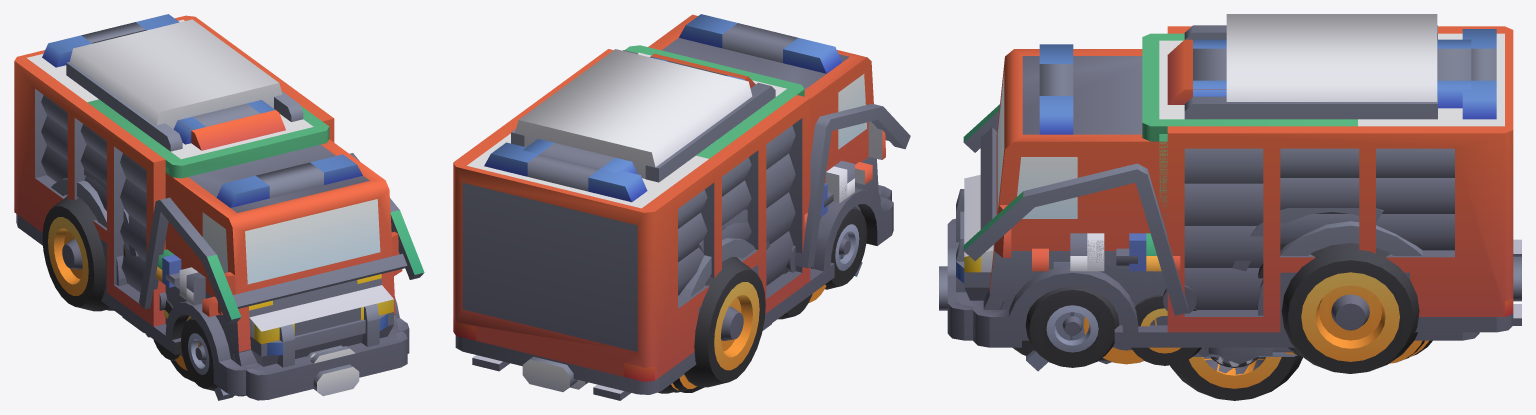
Rendered from cars.glb.
3 renders of one model, left to right at view 1: azimuth 30°, elevation 25°; view 2: azimuth 150°, elevation 25°; view 3: azimuth 270°, elevation 25°, orthographic. The views are drawn at different scales.
Parts seen in each view (by area): view 1: body (×5), arm, wheel-back-right, grill, wheel-front-right; view 2: body (×4), wheel-back-right, arm, wheel-front-right; view 3: body (×10), wheel-back-left, arm, wheel-front-left (×3), wheel-tractor-back, grill, debris-bumper, wheel-tractor-dark-back, shovel.
Part boxes in pixels (x1,y1,x2,y2): body (×5): (14,14,409,400); arm: (139,153,424,324); wheel-back-right: (42,196,110,311); grill: (252,304,397,371); wheel-front-right: (181,317,217,390); body (×4): (453,14,893,400); wheel-back-right: (684,257,765,387); arm: (786,103,910,272); wheel-front-right: (825,206,866,289); body (×10): (939,14,1521,347); wheel-back-left: (1281,243,1419,373); arm: (963,104,1196,315); wheel-front-left (×3): (1025,286,1201,367); wheel-tractor-back: (1174,355,1301,400); grill: (947,189,972,306); debris-bumper: (1198,347,1272,356); wheel-tractor-dark-back: (1170,357,1302,398); shovel: (1026,262,1070,371).
Size of the model in its own units: 1.66 by 2.24 by 3.45.
Materials: 1 (1 with a texture image).
